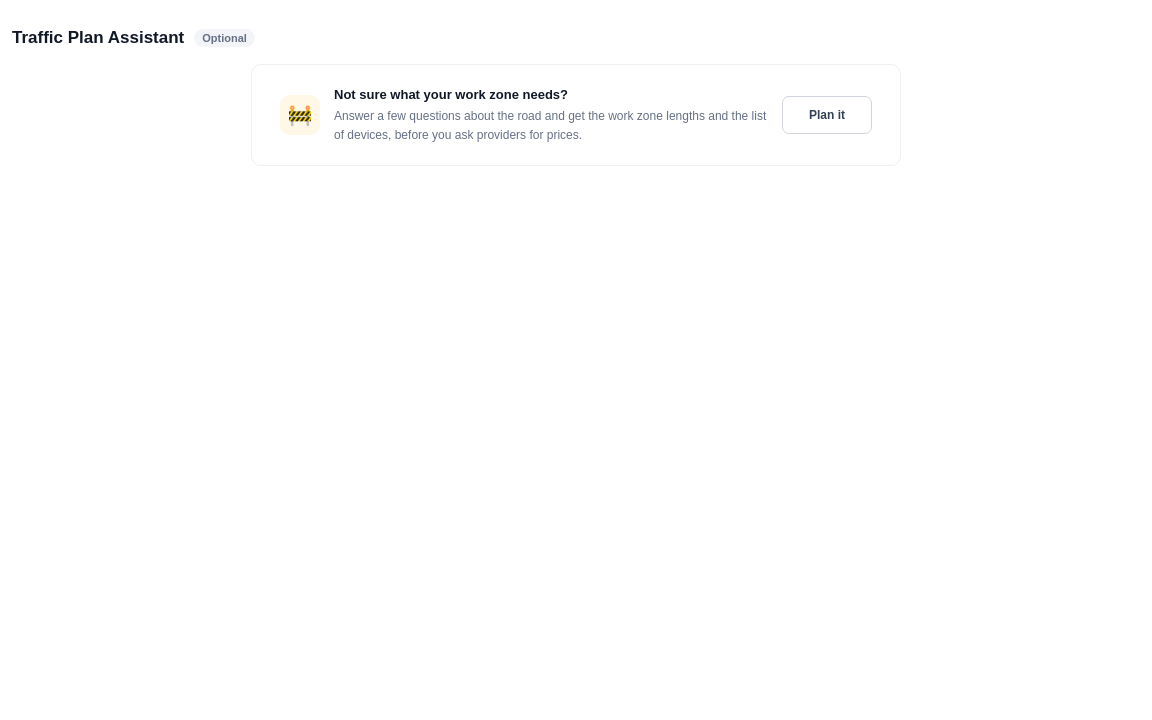
Test: AiTrafficPlan › حالة Planning… أثناء الطلب
Later steps or results of the test are not shown.
Click the button "Plan it" at (827, 115), box x1=782 y1=96 x2=872 y2=134
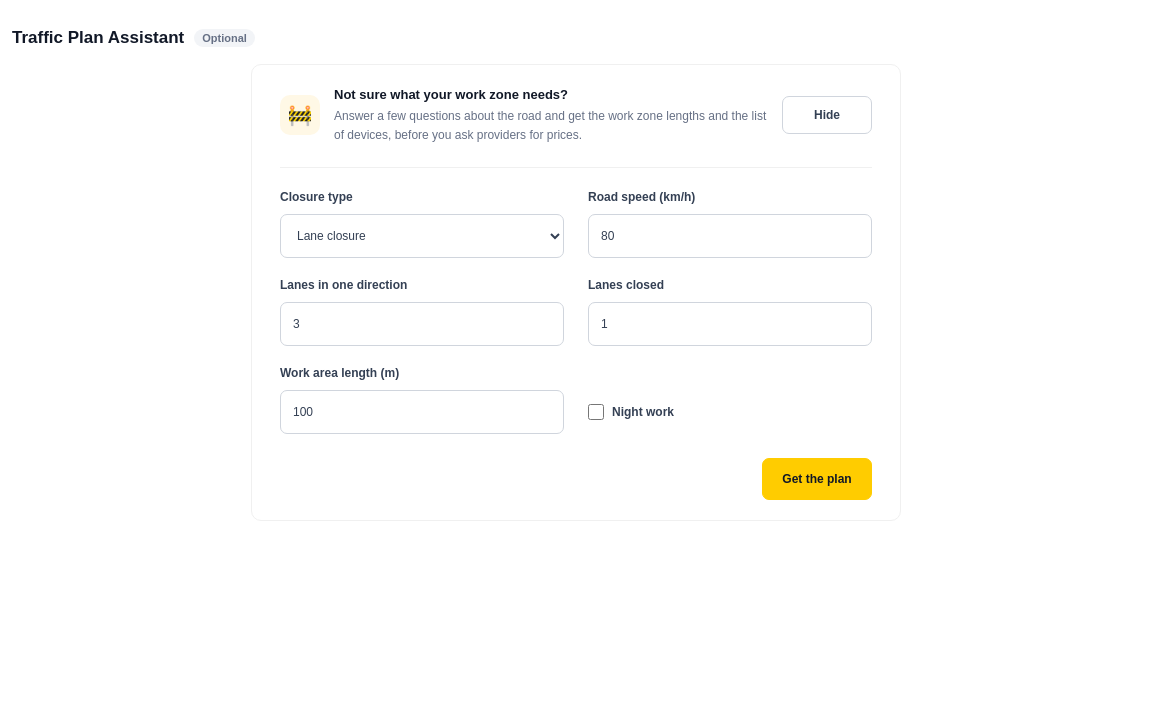
Click the button "Get the plan" at (817, 479), box x1=762 y1=458 x2=872 y2=500
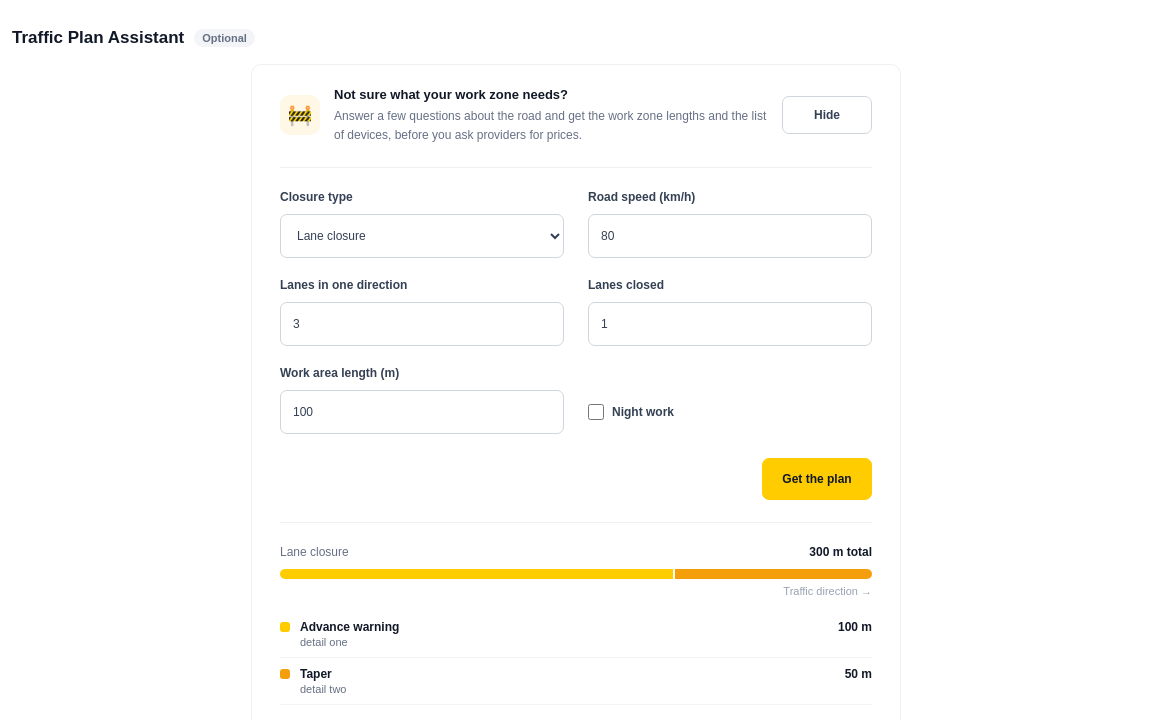
Now the button "Get the plan" is enabled, box x1=762 y1=458 x2=872 y2=500
